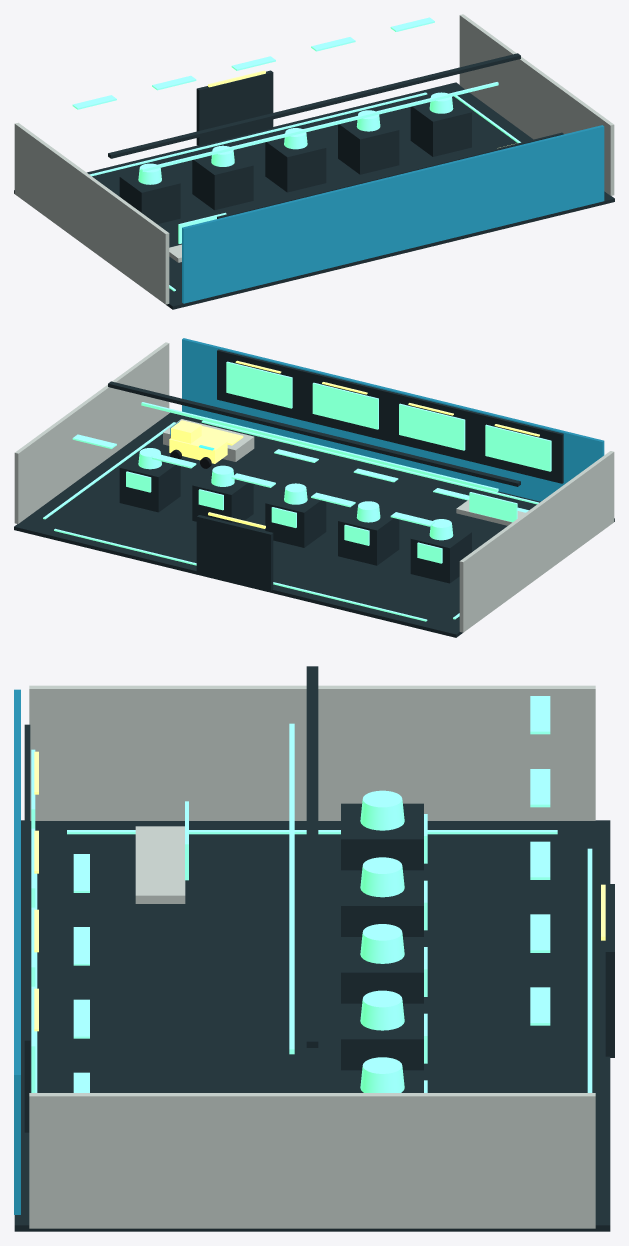
The model's file is factory-bay.glb.
3 views of the same model, one above another, from view 1: azimuth 30°, elevation 25°; view 2: azimuth 150°, elevation 25°; view 3: azimuth 270°, elevation 25° (orthographic). The views are drawn at different scales.
Visible parts, largest first — view 1: rj-factory-bay-interior-rear-glass-wall, rj-factory-bay-interior-raised-interior-floor, rj-factory-bay-interior-left-wall-frame, rj-factory-bay-interior-right-wall-frame, rj-factory-bay-interior-exit-door-frame, rj-factory-bay-interior-ceiling-spine, rj-factory-bay-interior-machine-cell-3, rj-factory-bay-interior-machine-cell-4, rj-factory-bay-interior-machine-cell-5, rj-factory-bay-interior-machine-cell-2, rj-factory-bay-interior-machine-cell-1, rj-factory-bay-interior-overhead-busbar (+2 smaller); view 2: rj-factory-bay-interior-raised-interior-floor, rj-factory-bay-interior-left-wall-frame, rj-factory-bay-interior-right-wall-frame, rj-factory-bay-interior-rear-glass-wall, rj-factory-bay-interior-screen-wall-backplane, rj-factory-bay-interior-exit-door-frame, rj-factory-bay-interior-ceiling-spine, rj-factory-bay-interior-machine-cell-2, rj-factory-bay-interior-machine-cell-5, rj-factory-bay-interior-machine-cell-3, rj-factory-bay-interior-machine-cell-1, rj-factory-bay-interior-main-display-3 (+22 smaller); view 3: rj-factory-bay-interior-raised-interior-floor, rj-factory-bay-interior-right-wall-frame, rj-factory-bay-interior-left-wall-frame, rj-factory-bay-interior-ceiling-spine, rj-factory-bay-interior-machine-cell-1, rj-factory-bay-interior-machine-cell-4, rj-factory-bay-interior-machine-cell-3, rj-factory-bay-interior-machine-cell-2, rj-factory-bay-interior-operator-desk, rj-factory-bay-interior-rear-glass-wall, rj-factory-bay-interior-screen-wall-backplane, rj-factory-bay-interior-overhead-busbar (+14 smaller).
Part boxes in pixels (x1,y1,x2,y2): rj-factory-bay-interior-rear-glass-wall: (182,125,604,303); rj-factory-bay-interior-raised-interior-floor: (14,82,614,309); rj-factory-bay-interior-left-wall-frame: (14,122,169,304); rj-factory-bay-interior-right-wall-frame: (459,14,614,195); rj-factory-bay-interior-exit-door-frame: (196,70,273,146); rj-factory-bay-interior-ceiling-spine: (108,53,520,158); rj-factory-bay-interior-machine-cell-3: (265,133,326,192); rj-factory-bay-interior-machine-cell-4: (338,116,399,174); rj-factory-bay-interior-machine-cell-5: (410,98,471,156); rj-factory-bay-interior-machine-cell-2: (192,151,253,210); rj-factory-bay-interior-machine-cell-1: (119,169,180,224); rj-factory-bay-interior-overhead-busbar: (141,82,498,171); rj-factory-bay-interior-raised-interior-floor: (14,412,614,637); rj-factory-bay-interior-left-wall-frame: (459,451,614,632); rj-factory-bay-interior-right-wall-frame: (14,342,169,523); rj-factory-bay-interior-rear-glass-wall: (182,338,604,501); rj-factory-bay-interior-screen-wall-backplane: (217,349,563,483); rj-factory-bay-interior-exit-door-frame: (196,515,273,590); rj-factory-bay-interior-ceiling-spine: (108,381,520,486); rj-factory-bay-interior-machine-cell-2: (338,506,399,565); rj-factory-bay-interior-machine-cell-5: (119,453,180,512); rj-factory-bay-interior-machine-cell-3: (265,489,326,547); rj-factory-bay-interior-machine-cell-1: (410,526,471,583); rj-factory-bay-interior-main-display-3: (312,382,378,429); rj-factory-bay-interior-raised-interior-floor: (14,820,610,1231); rj-factory-bay-interior-right-wall-frame: (29,1093,595,1228); rj-factory-bay-interior-left-wall-frame: (29,685,595,820); rj-factory-bay-interior-ceiling-spine: (306,666,318,1047); rj-factory-bay-interior-machine-cell-1: (341,803,423,870); rj-factory-bay-interior-machine-cell-4: (341,1003,423,1070); rj-factory-bay-interior-machine-cell-3: (341,937,423,1003); rj-factory-bay-interior-machine-cell-2: (341,870,423,936); rj-factory-bay-interior-operator-desk: (135,826,185,903); rj-factory-bay-interior-rear-glass-wall: (14,689,20,1214); rj-factory-bay-interior-screen-wall-backplane: (24,724,30,1132); rj-factory-bay-interior-overhead-busbar: (289,723,294,1054).
Size of the model in its own units: 16.64 by 3.31 by 10.29.
